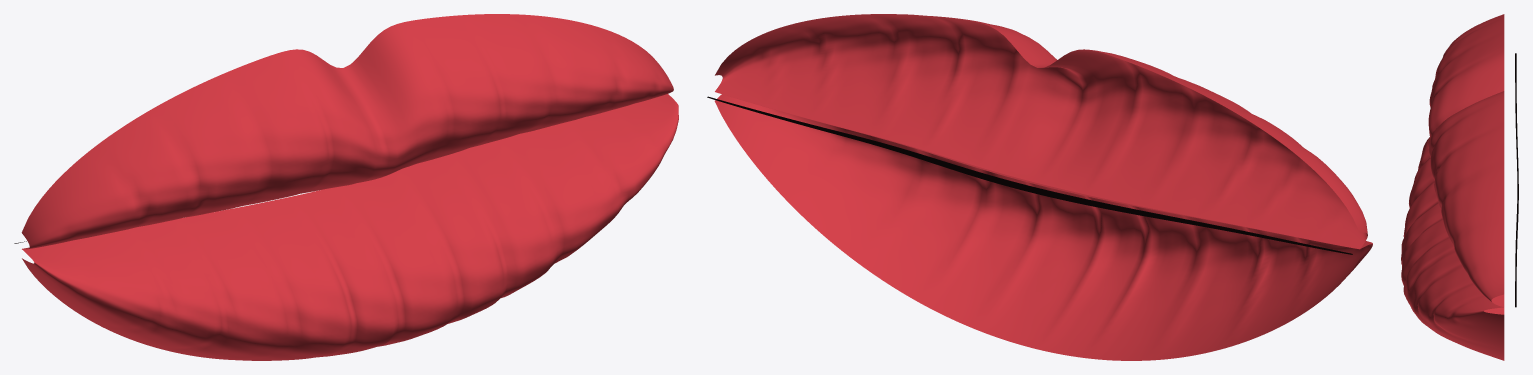
The model's file is lips2.dae.
The picture shows the model from 3 angles, left to right: view 1: azimuth 30°, elevation 25°; view 2: azimuth 150°, elevation 25°; view 3: azimuth 270°, elevation 25°; orthographic projection. The views are drawn at different scales.
Parts seen in each view (by area): view 1: Lips; view 2: Lips, MouthCrease; view 3: Lips, MouthCrease.
Part boxes in pixels (x1,y1,x2,y2): Lips: [21, 14, 678, 360]; Lips: [714, 14, 1372, 360]; MouthCrease: [707, 96, 1352, 254]; Lips: [1401, 14, 1504, 360]; MouthCrease: [1515, 53, 1518, 307].
Size of the model in its own units: 1.58 by 0.7329 by 0.3103.
